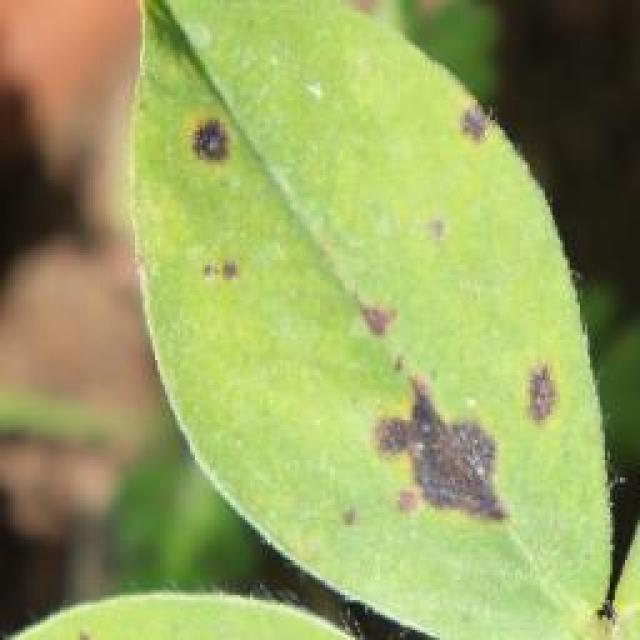Yellowish: (163, 36, 585, 576), (22, 527, 418, 640)
